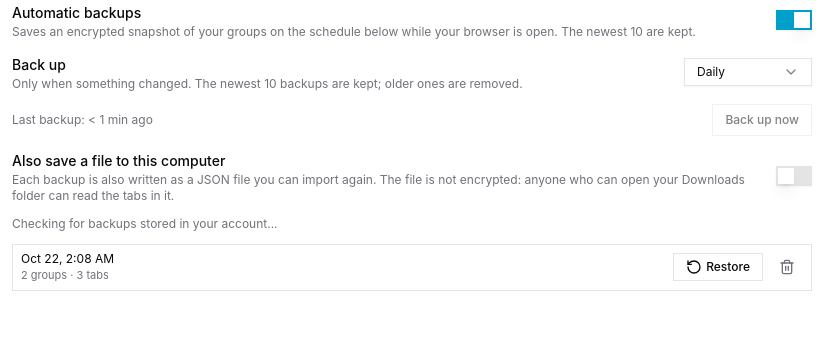
Test case: AutoBackups — restore and delete › Restore only opens the choice: nothing is imported or replaced yet
This screenshot has width=829, height=353.
Click the button with aria-label "Restore backup from". click: (718, 267)
box: [673,253,763,281]
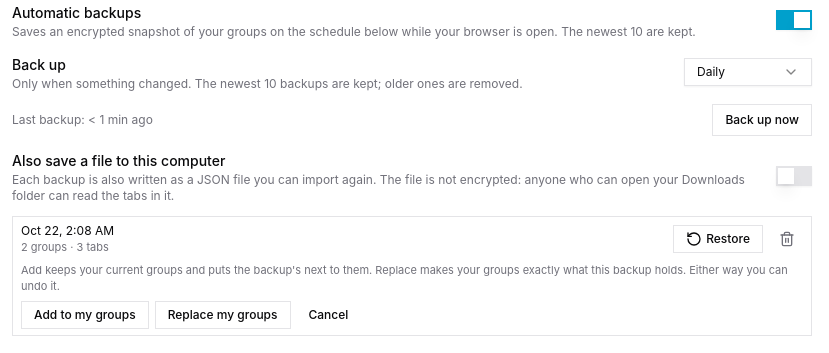
Expected: the button "Add to my groups" is shown, [21,300,149,328]
Expected: the button "Replace my groups" is shown, [155,300,290,328]
